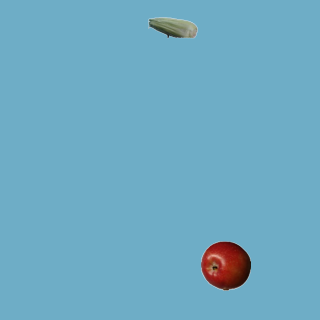Apple Braeburn: (200, 240, 250, 290)
Corn Husk: (147, 2, 197, 52)
